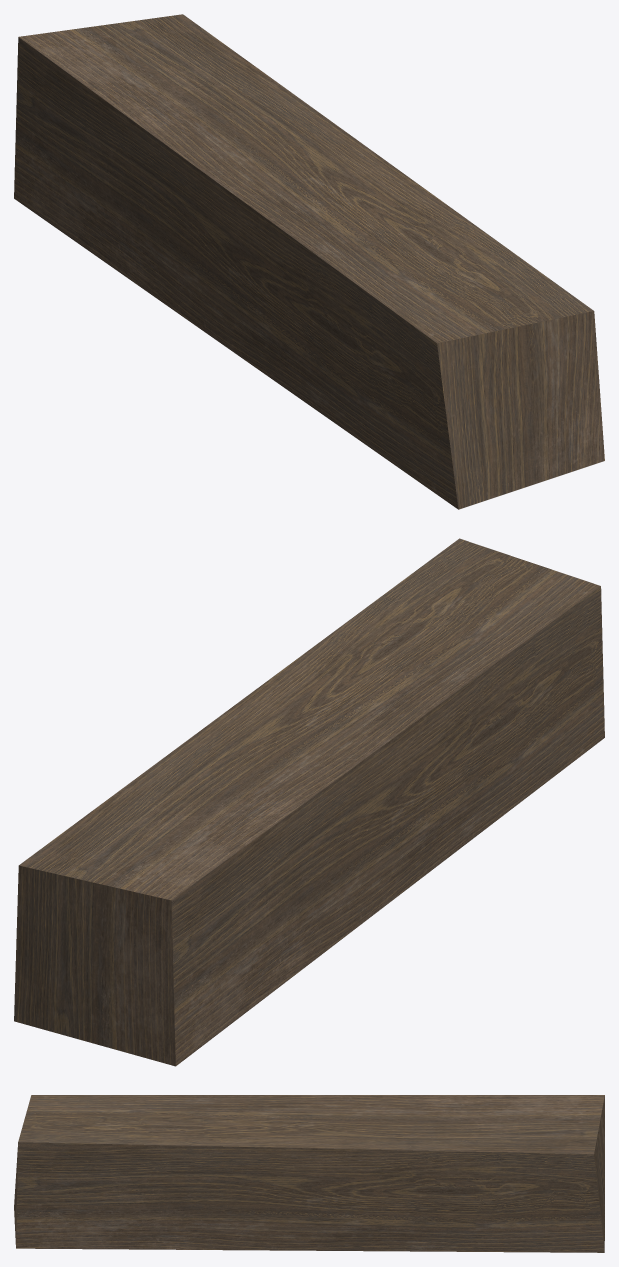
Rendered from SM_Roof_Support.FBX.
The picture shows the model from 3 angles, top to bottom: view 1: azimuth 30°, elevation 25°; view 2: azimuth 150°, elevation 25°; view 3: azimuth 270°, elevation 25°; orthographic projection. The views are drawn at different scales.
Parts seen in each view (by area): view 1: SM_Roof_Support; view 2: SM_Roof_Support; view 3: SM_Roof_Support.
Boxes of the visible parts, left/top/right/bottom form: SM_Roof_Support: left=14, top=14, right=604, bottom=509; SM_Roof_Support: left=14, top=538, right=604, bottom=1066; SM_Roof_Support: left=14, top=1095, right=604, bottom=1252.
Size of what is drawn, in the model's own units: 18.89 by 87.65 by 18.39.
